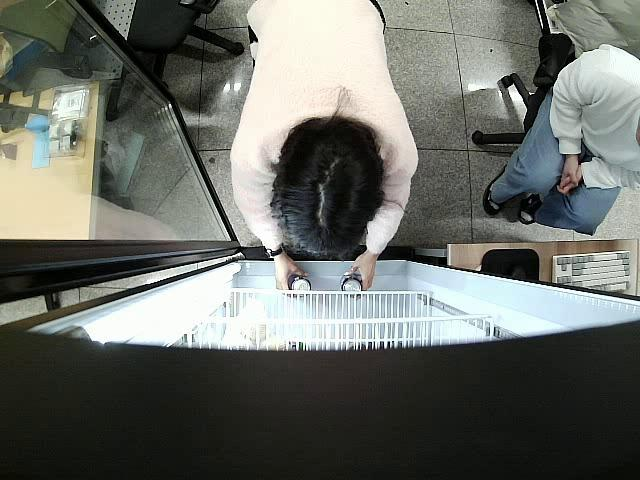14_welchsGrape: (339, 274, 364, 300), (289, 274, 312, 298)
